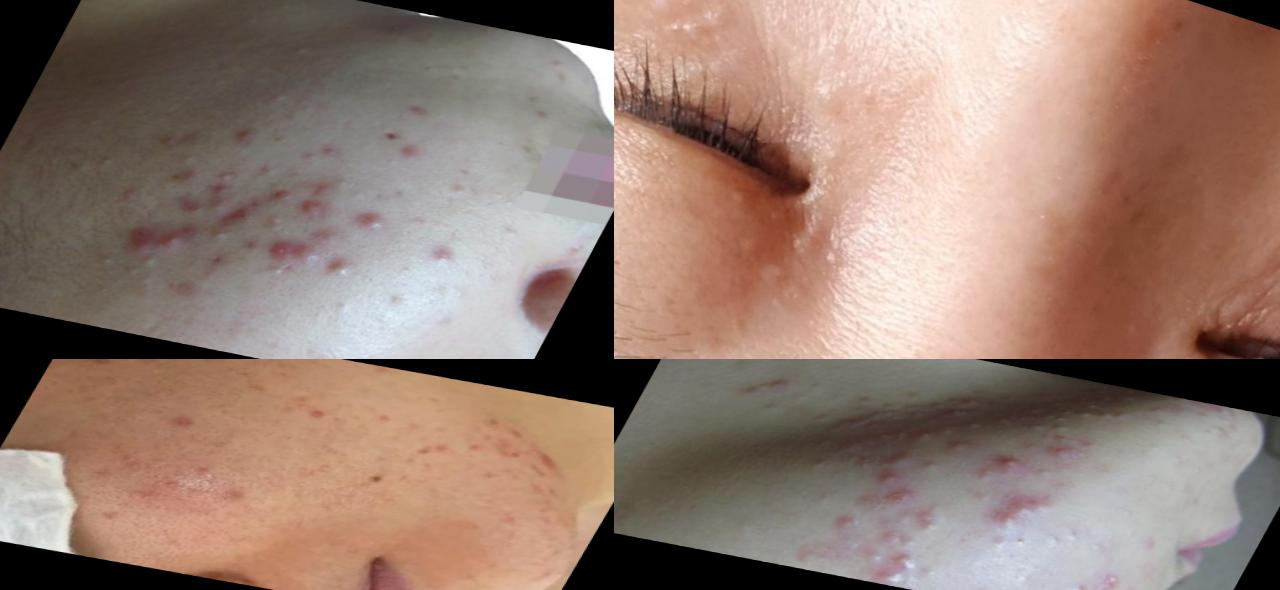acne_scars: (514, 448, 576, 486), (485, 424, 540, 462), (150, 405, 211, 437), (406, 435, 463, 465), (293, 401, 347, 430)
blackhead: (187, 504, 227, 527), (673, 1, 707, 13)
cystic: (999, 489, 1062, 522), (875, 442, 925, 475)
milium: (753, 196, 792, 234)
papular: (255, 231, 339, 273), (341, 206, 405, 245), (143, 221, 200, 259), (280, 195, 341, 228), (220, 121, 275, 153), (118, 228, 164, 264), (414, 241, 469, 271), (257, 181, 304, 208), (330, 255, 368, 285), (297, 180, 340, 206), (387, 141, 431, 165), (881, 485, 921, 509), (171, 198, 209, 221), (205, 179, 242, 201)
purulent: (888, 549, 928, 575), (911, 506, 946, 535), (866, 471, 906, 495), (824, 509, 861, 533), (985, 513, 1025, 535), (997, 455, 1026, 472), (883, 571, 903, 585)
sebo-crystan-conglo: (1044, 443, 1092, 467), (886, 486, 921, 510), (1095, 567, 1128, 590)
syringoma: (730, 247, 819, 316)
whitehead: (1054, 396, 1135, 434), (203, 214, 257, 247), (146, 470, 199, 501), (255, 210, 300, 238), (303, 456, 350, 482), (283, 33, 324, 62), (1036, 398, 1080, 425), (112, 181, 153, 209), (1025, 419, 1073, 441), (215, 160, 251, 188), (86, 148, 122, 175), (258, 90, 300, 113), (88, 250, 124, 273), (133, 251, 169, 273), (799, 408, 839, 427), (379, 291, 415, 312), (296, 147, 333, 167), (250, 162, 284, 182), (803, 452, 838, 471), (895, 399, 933, 416), (263, 259, 292, 281), (182, 149, 212, 170), (328, 174, 359, 194), (380, 156, 411, 173), (331, 299, 360, 315), (344, 187, 373, 203), (963, 418, 992, 433), (392, 264, 418, 280), (1149, 415, 1172, 432), (311, 350, 350, 360), (874, 427, 898, 443), (913, 427, 937, 442), (302, 353, 330, 360)
